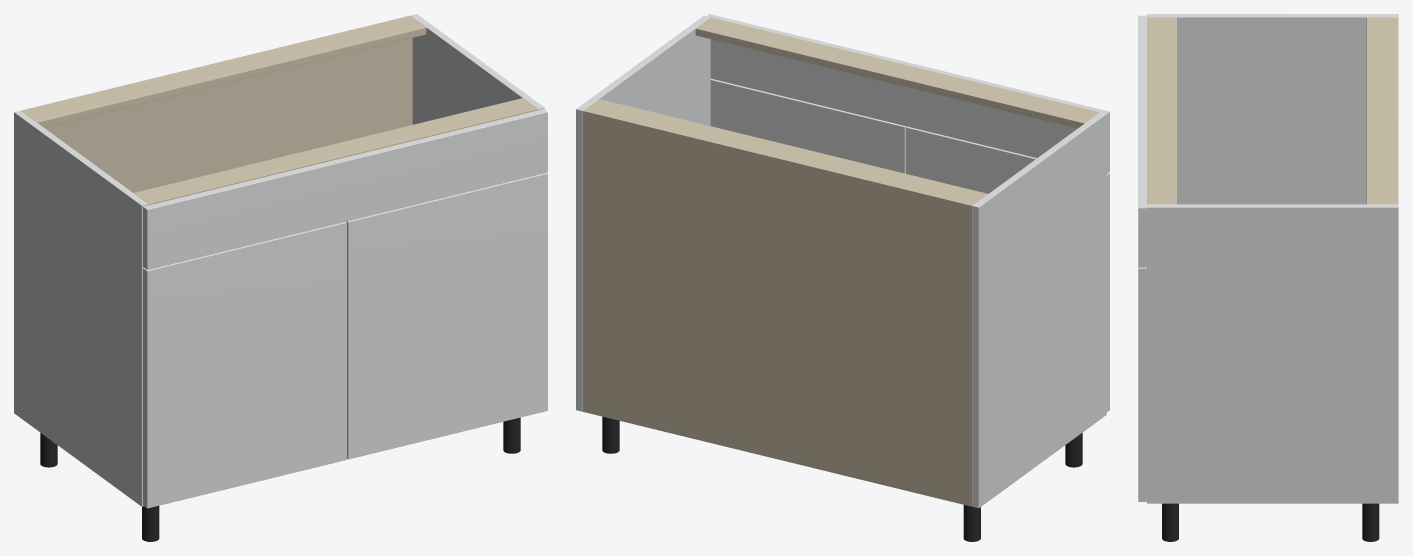
The model's file is oppein-ply-pgw-sb42.glb.
3 views of the same model, side by side, from view 1: azimuth 30°, elevation 25°; view 2: azimuth 150°, elevation 25°; view 3: azimuth 270°, elevation 25° (orthographic).
Visible parts, largest first — view 1: Door, Door.001, Cabinet side, Cabinet back, False drawer front, Top support rail, Cabinet side.001, Top support rail.001; view 2: Cabinet back, Cabinet side, False drawer front, Door.001, Cabinet side.001, Top support rail.001, Door, Top support rail, Cabinet bottom, Adjustable foot, Adjustable foot.002; view 3: Cabinet side.001, Cabinet side, Top support rail.001, Top support rail, False drawer front, Door.001, Cabinet back, Adjustable foot.002, Adjustable foot.003.
Boxes of the visible parts, left/top/right/bottom form: Door: left=143, top=221, right=346, bottom=508; Door.001: left=346, top=172, right=547, bottom=459; Cabinet side: left=14, top=110, right=148, bottom=506; Cabinet back: left=21, top=15, right=412, bottom=192; False drawer front: left=143, top=109, right=547, bottom=269; Top support rail: left=23, top=17, right=426, bottom=127; Cabinet side.001: left=410, top=14, right=544, bottom=124; Top support rail.001: left=134, top=98, right=537, bottom=205; Cabinet back: left=583, top=109, right=973, bottom=506; Cabinet side: left=972, top=112, right=1106, bottom=508; False drawer front: left=706, top=14, right=1109, bottom=173; Door.001: left=710, top=78, right=906, bottom=173; Cabinet side.001: left=576, top=16, right=710, bottom=411; Top support rail.001: left=695, top=17, right=1099, bottom=128; Door: left=906, top=126, right=1109, bottom=412; Top support rail: left=586, top=99, right=987, bottom=204; Cabinet bottom: left=583, top=405, right=971, bottom=505; Adjustable foot: left=963, top=505, right=980, bottom=541; Adjustable foot.002: left=602, top=416, right=619, bottom=453; Cabinet side.001: left=1147, top=204, right=1398, bottom=503; Cabinet side: left=1147, top=14, right=1398, bottom=204; Top support rail.001: left=1147, top=17, right=1176, bottom=204; Top support rail: left=1366, top=17, right=1393, bottom=204; False drawer front: left=1138, top=15, right=1146, bottom=267; Door.001: left=1138, top=267, right=1146, bottom=501; Cabinet back: left=1393, top=17, right=1398, bottom=204; Adjustable foot.002: left=1362, top=503, right=1379, bottom=541; Adjustable foot.003: left=1162, top=503, right=1178, bottom=541.
Size of the model in its own units: 1.07 by 0.8763 by 0.6064.
